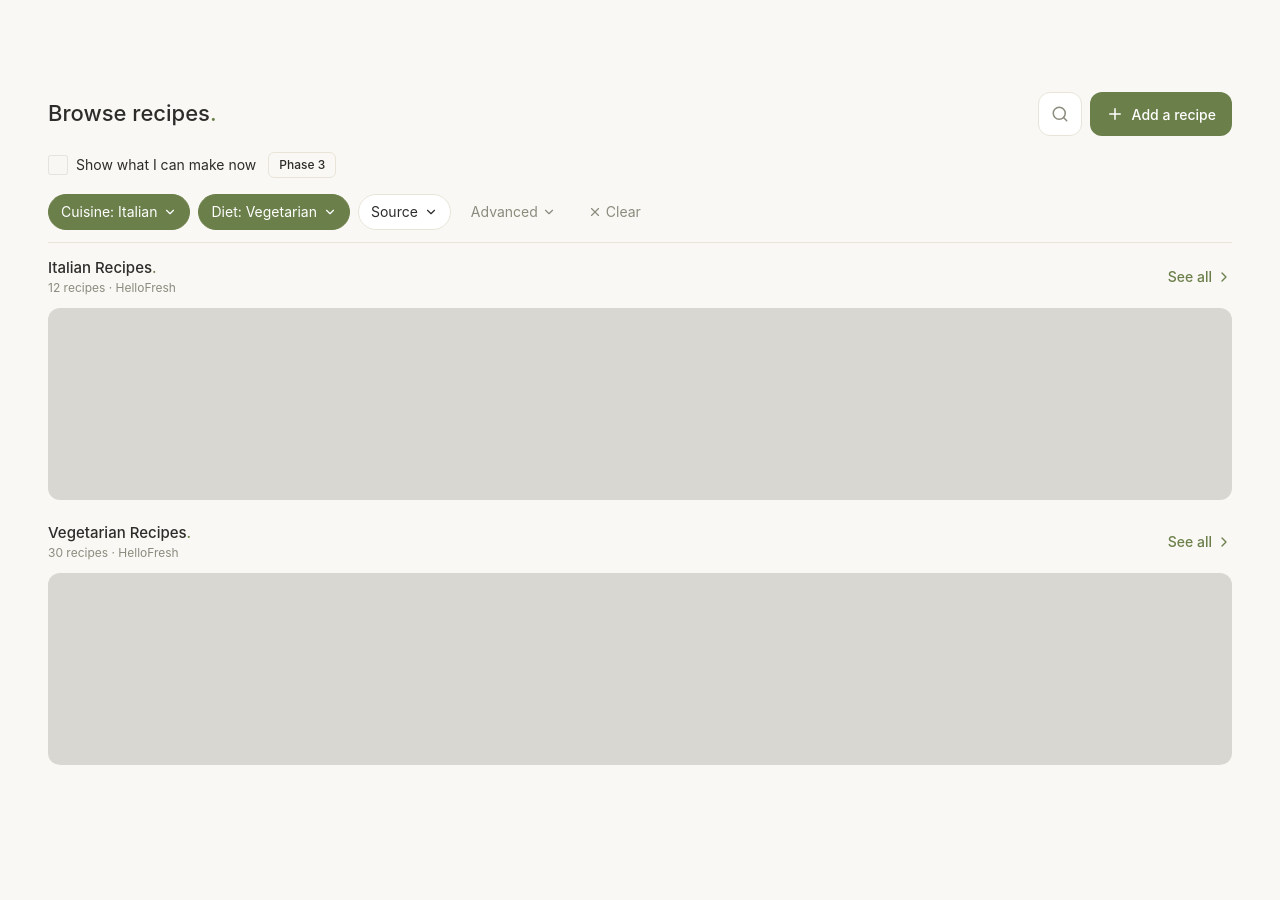
it: Recipes page — themes › theme filter › picking the active value again clears just that filter
Click the button "Diet: Vegetarian" at (274,212), box [198, 194, 350, 230]
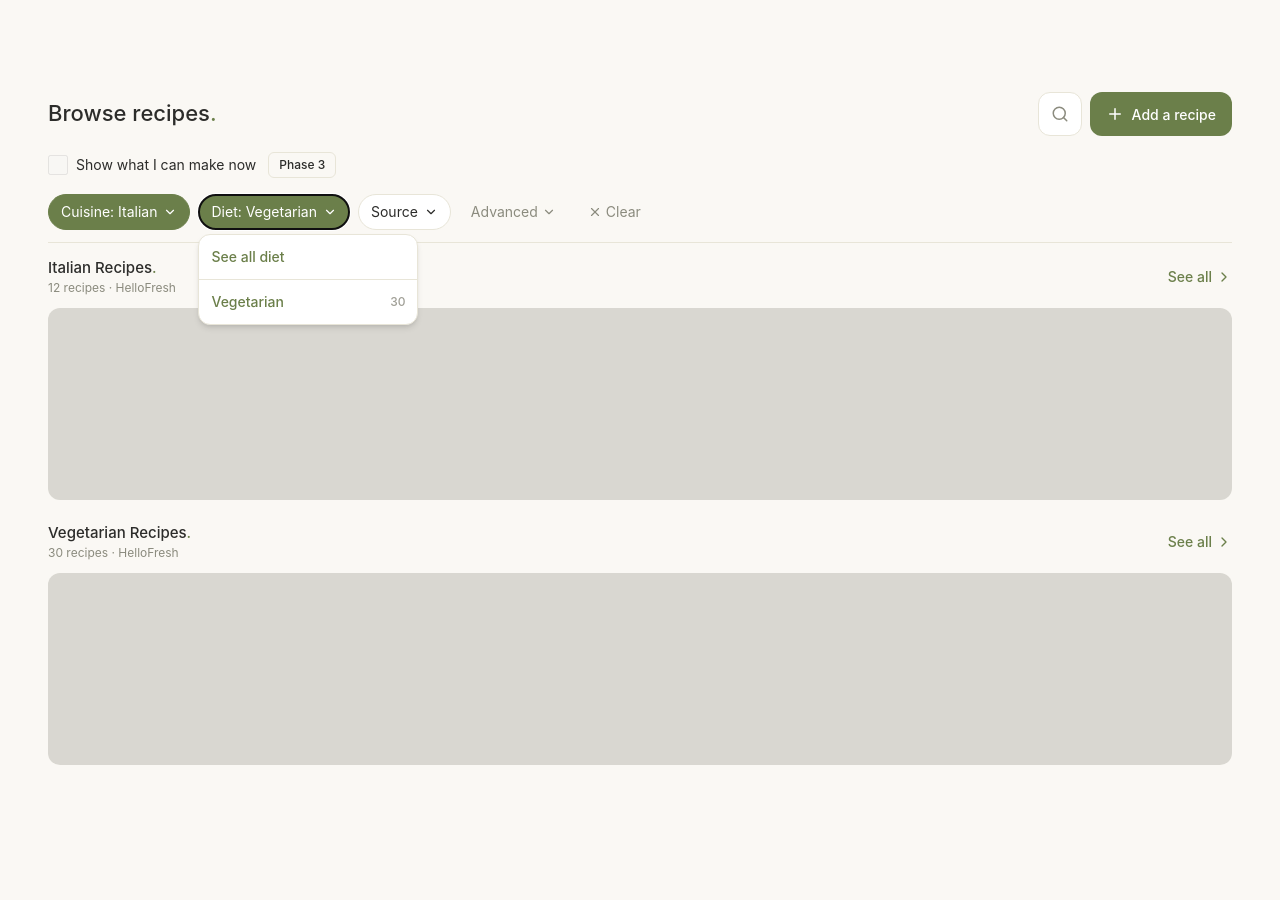
Click the menu item "Vegetarian 30" at (308,302), box [200, 284, 418, 320]
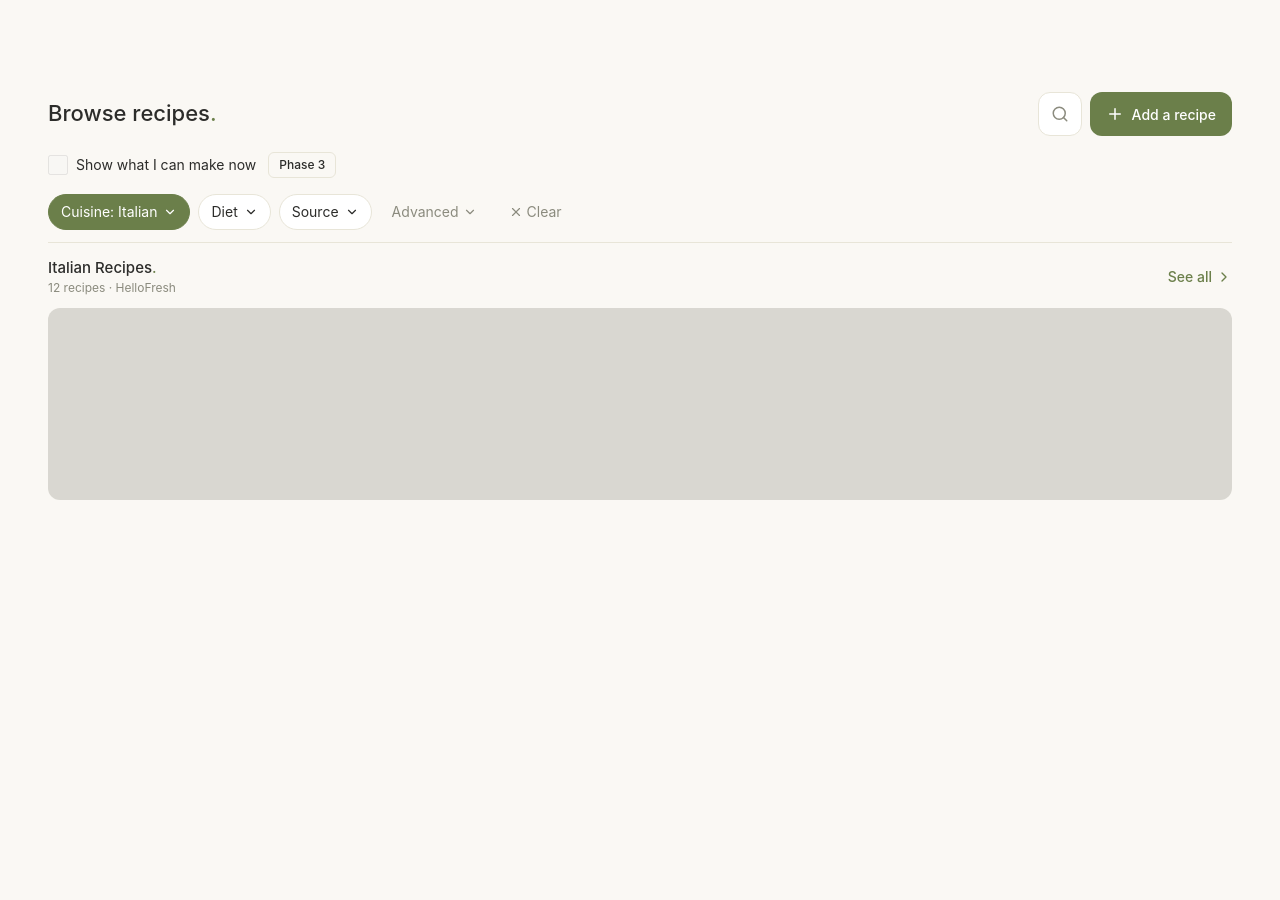
Expected: the button "Cuisine: Italian" is shown, [48, 194, 190, 230]
Expected: the button "Diet: Vegetarian" is gone
